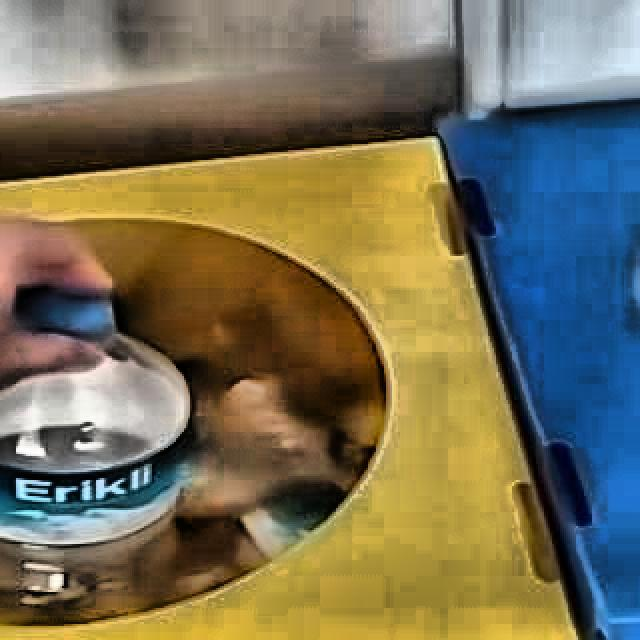plastic: (0, 288, 189, 625)
